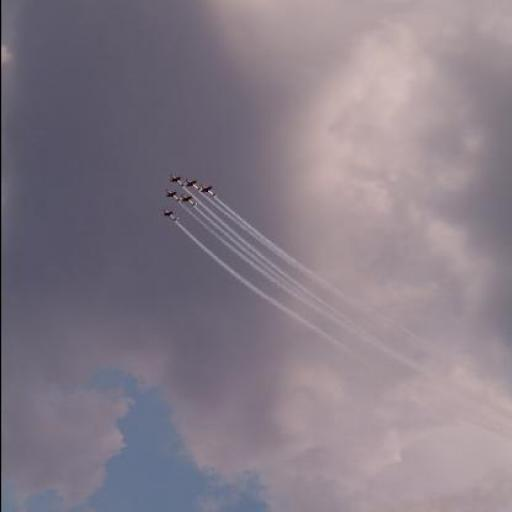aircraft: (161, 208, 181, 223), (168, 174, 186, 190), (200, 185, 222, 198), (184, 177, 200, 192), (180, 194, 197, 208), (164, 190, 181, 203)
